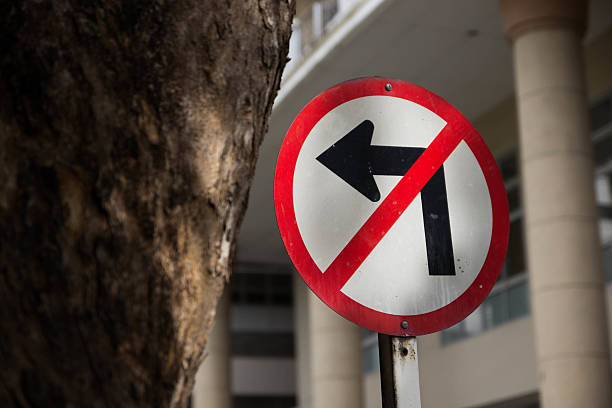sola_girilmez: (277, 77, 505, 335)
